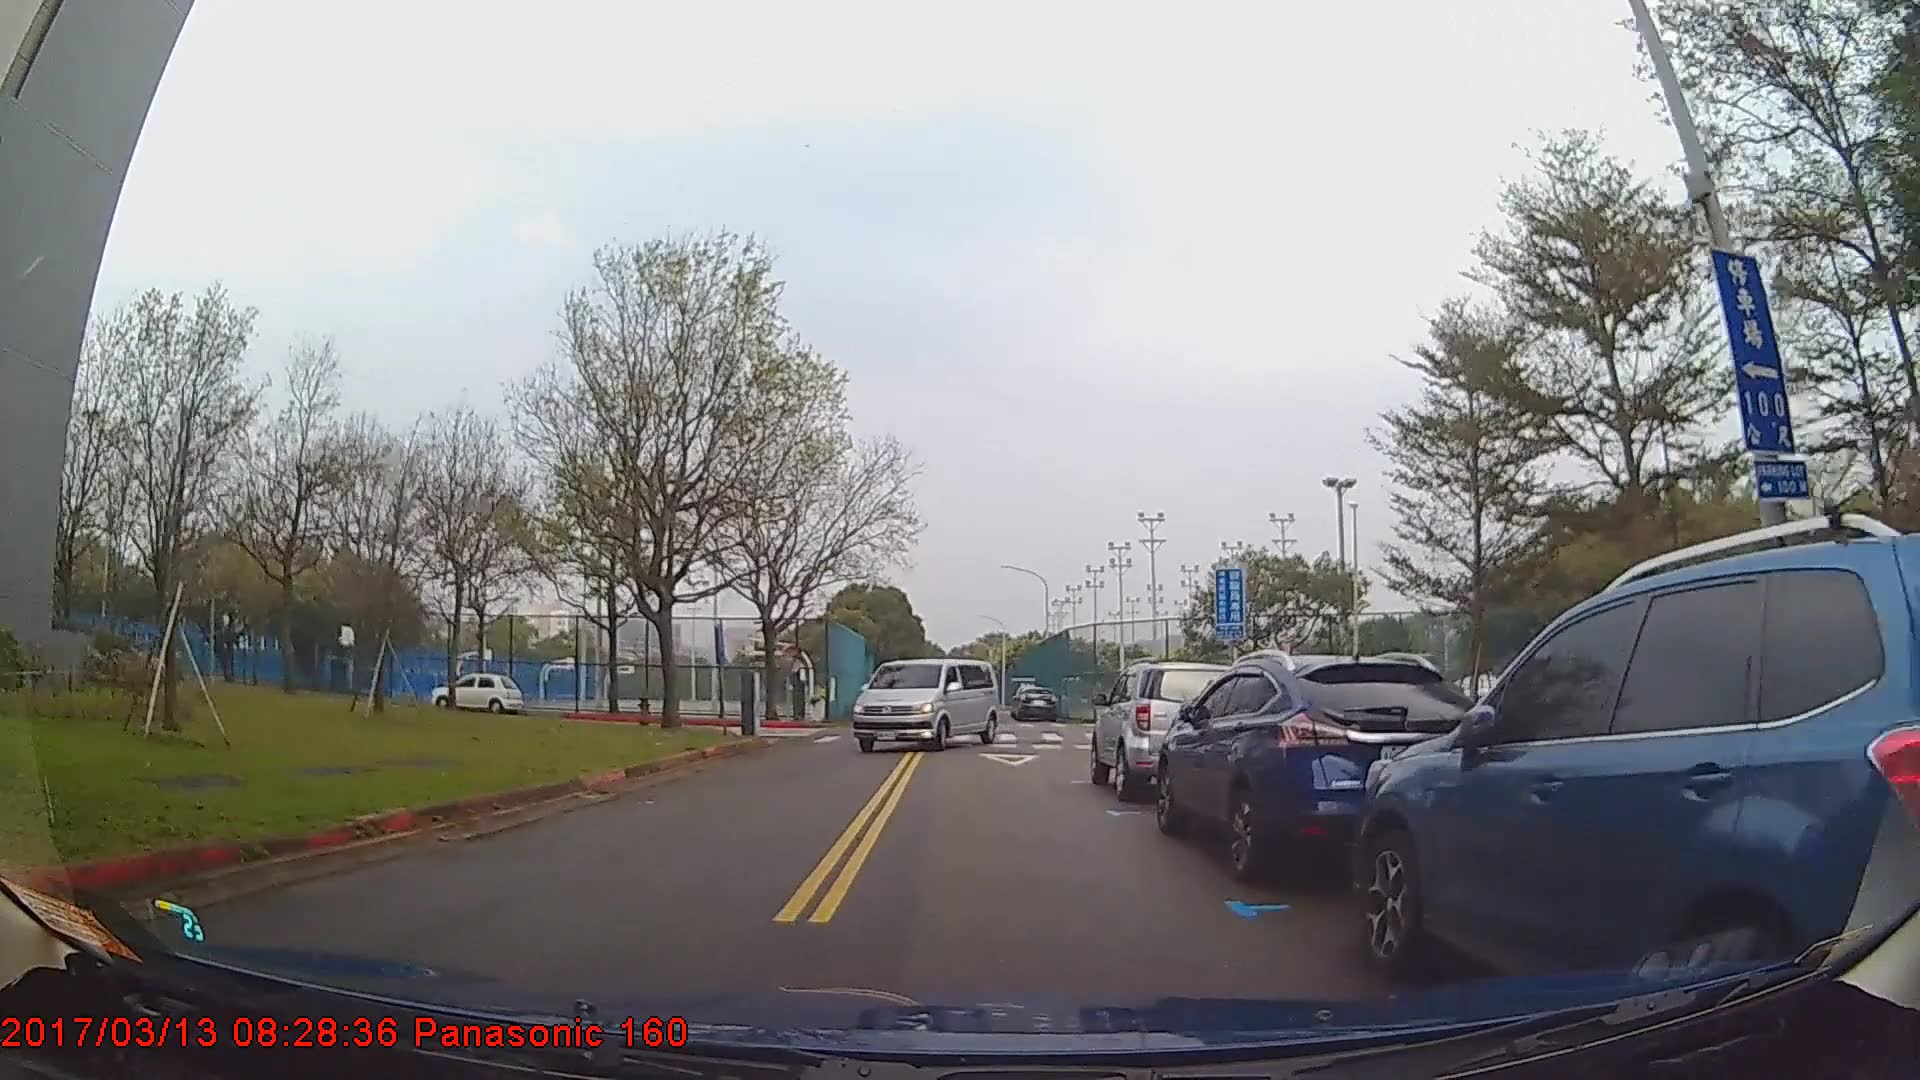vehicle: (1353, 533, 1917, 1013), (1153, 646, 1482, 874), (1089, 659, 1245, 796), (851, 649, 1001, 749), (433, 673, 524, 709), (1013, 680, 1059, 719)
